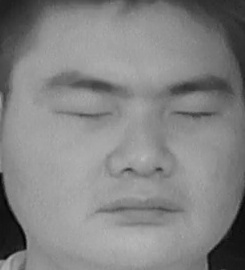blink: (56, 94, 116, 131), (167, 97, 220, 132)
mouth: (98, 187, 186, 235)
